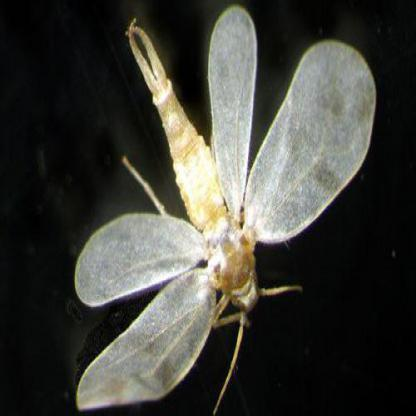whitefly: (245, 38, 376, 241)
